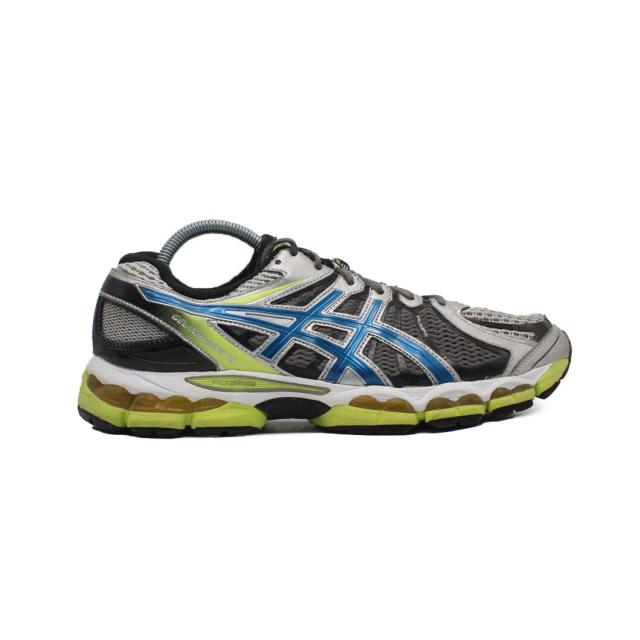heel: (93, 258, 130, 365)
midsole: (72, 358, 571, 433)
uppersole: (128, 231, 574, 384)
